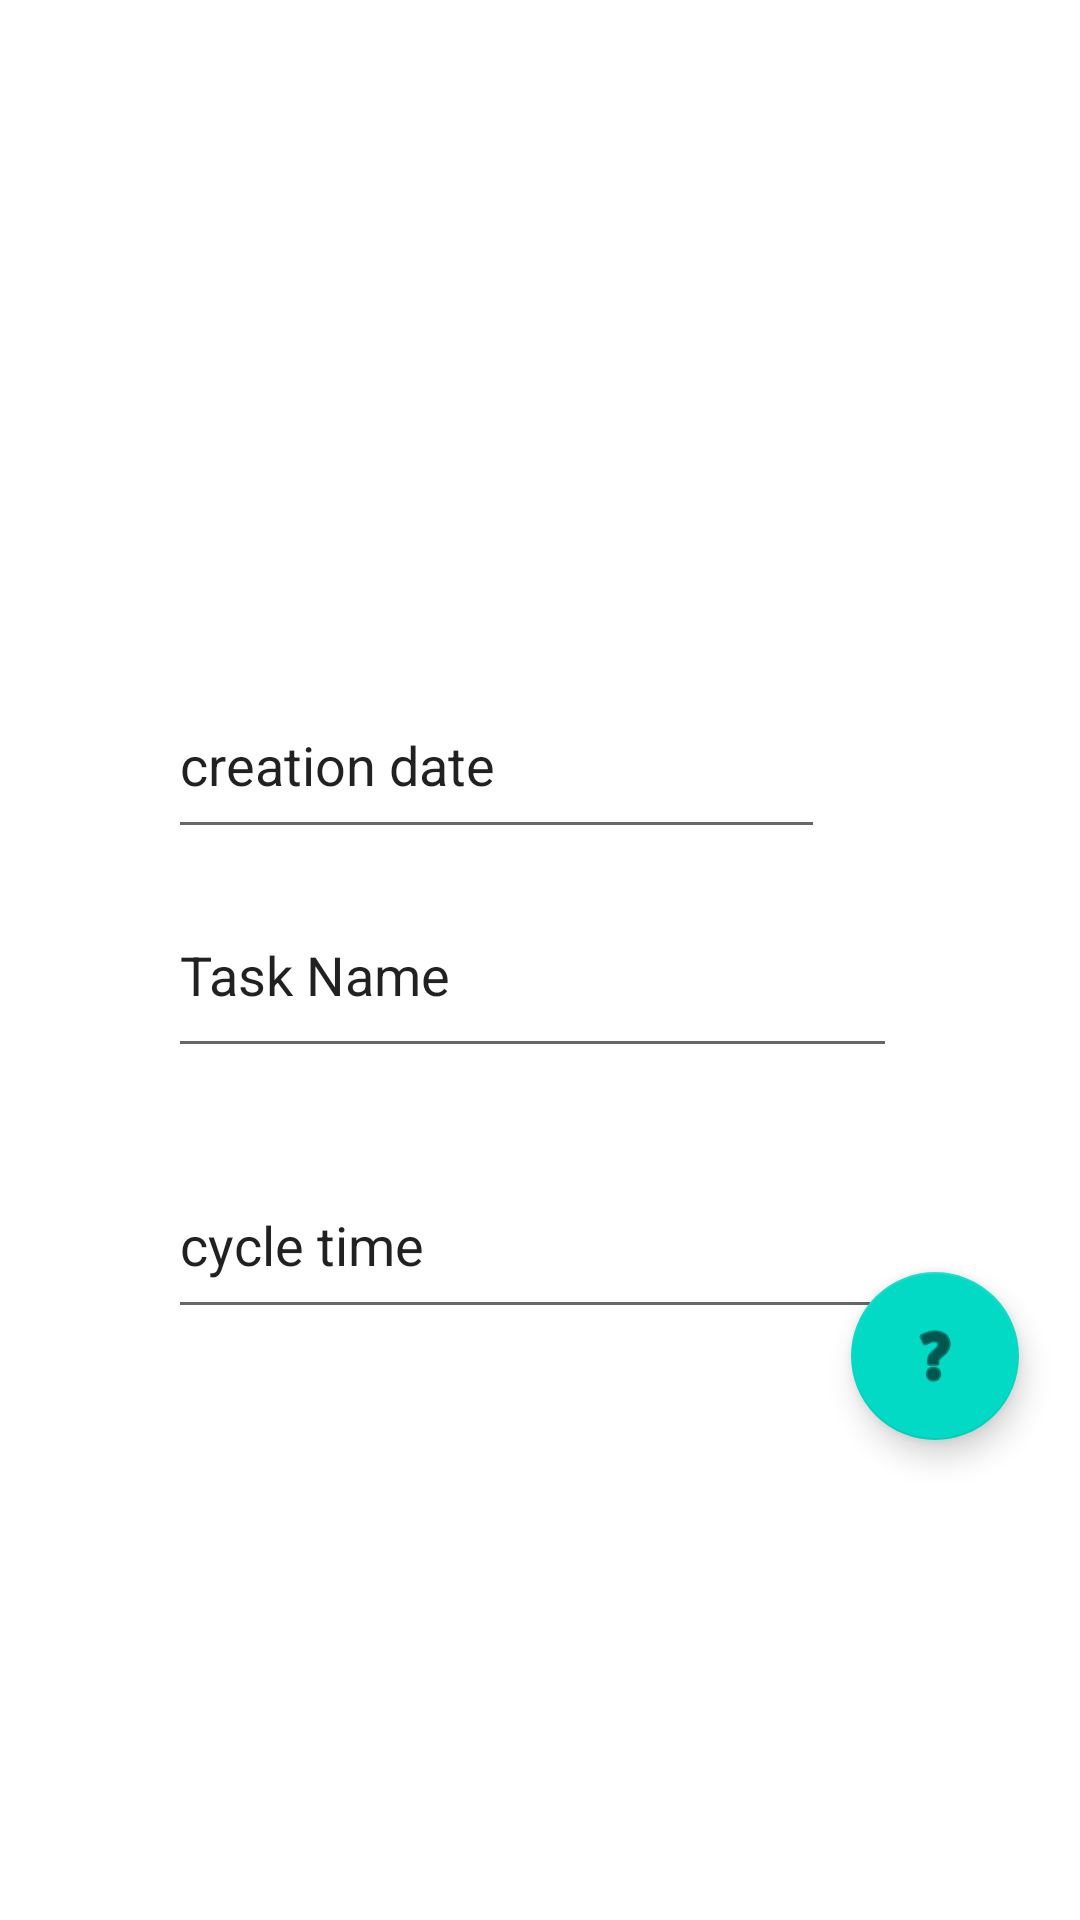

Icon click points for this 1080x1920 phone screenshot, format point (x, y):
Dynamic Routine Help: point (935, 1356)
